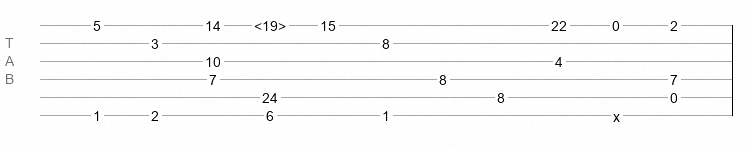0: (612, 18, 620, 28), (670, 90, 678, 100)
1: (93, 108, 101, 118), (382, 108, 390, 118)
10: (205, 54, 221, 64)
14: (205, 18, 221, 28)
15: (320, 18, 336, 28)
2: (151, 108, 159, 118), (670, 18, 678, 28)
22: (551, 18, 567, 28)
24: (262, 90, 278, 100)
3: (151, 36, 159, 46)
4: (555, 54, 563, 64)
5: (93, 18, 101, 28)
6: (266, 108, 274, 118)
7: (209, 72, 217, 82), (670, 72, 678, 82)
8: (382, 36, 390, 46), (439, 72, 447, 82), (497, 90, 505, 100)
harmonic: (254, 18, 286, 28)
x: (613, 109, 620, 117)
